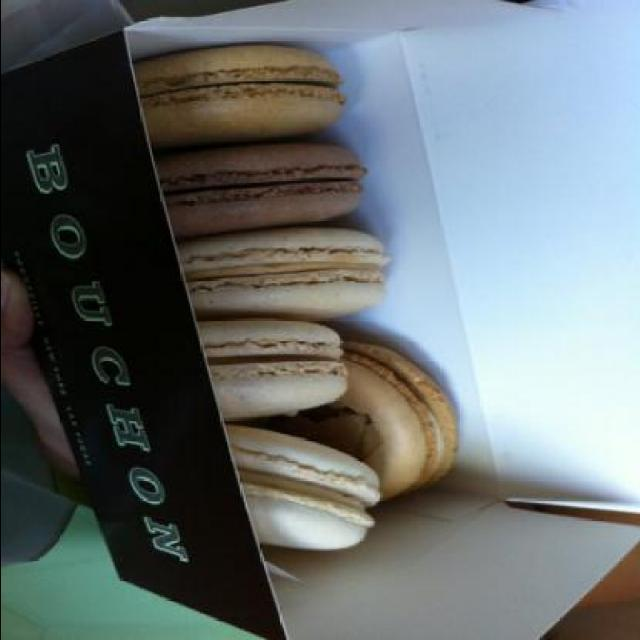Macaron: (130, 47, 459, 570)
